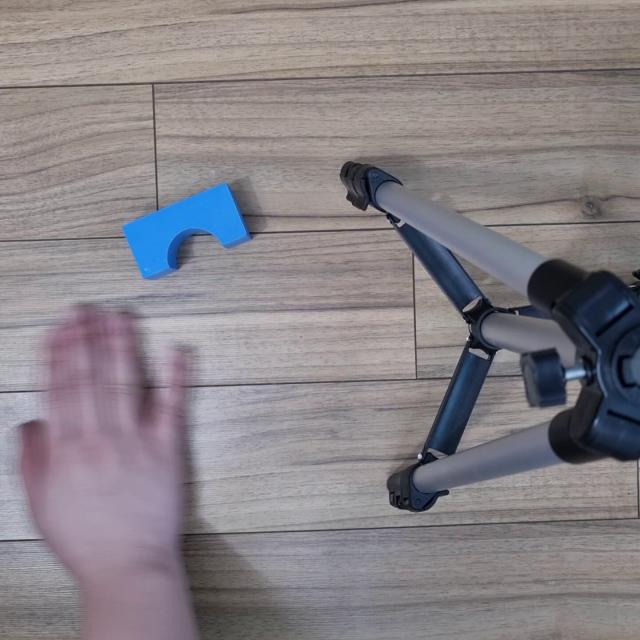block: (112, 170, 254, 269)
hand: (31, 290, 206, 561)
